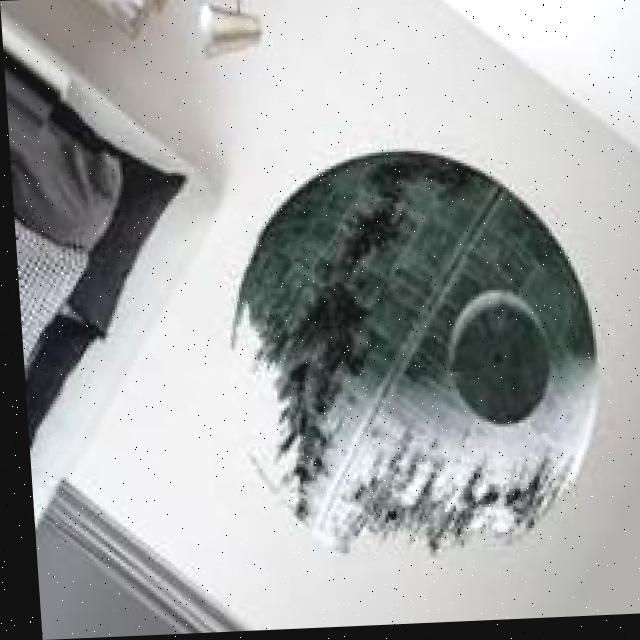deathstar: (220, 151, 599, 558)
